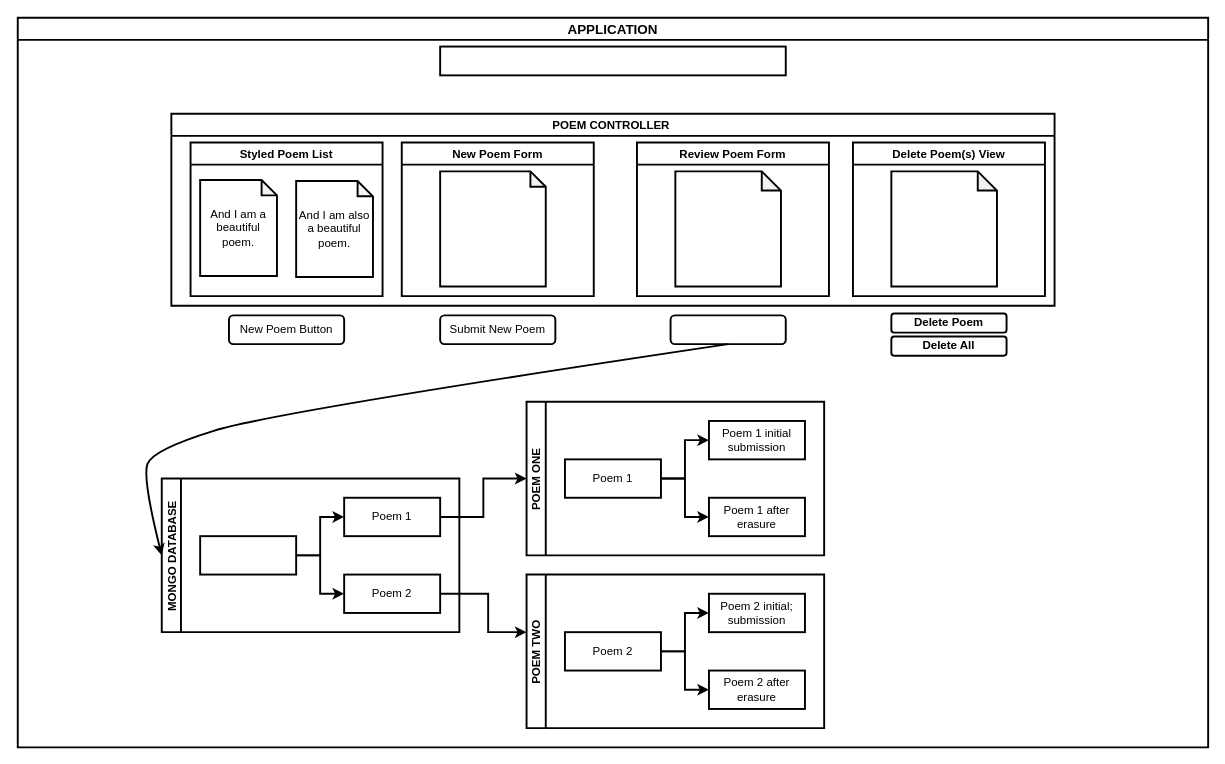
This 1225x764 diagram has some shape labels left out. The shapes that lost their labels are listed below. From the top down, each one's centre as x and y in pixels, then its label:
At (x=612, y=60): "NAVBAR".
At (x=492, y=228): "New Poem form with the following inputs: Name Paragraph Metric y/n".
At (x=727, y=228): "Review Poem and Make changes or select Save .".
At (x=943, y=228): "Displays a list of saved poems with a checkbox for deletion.".
At (x=727, y=329): "Save Poem to DB".
At (x=248, y=555): "CLUSTER".
